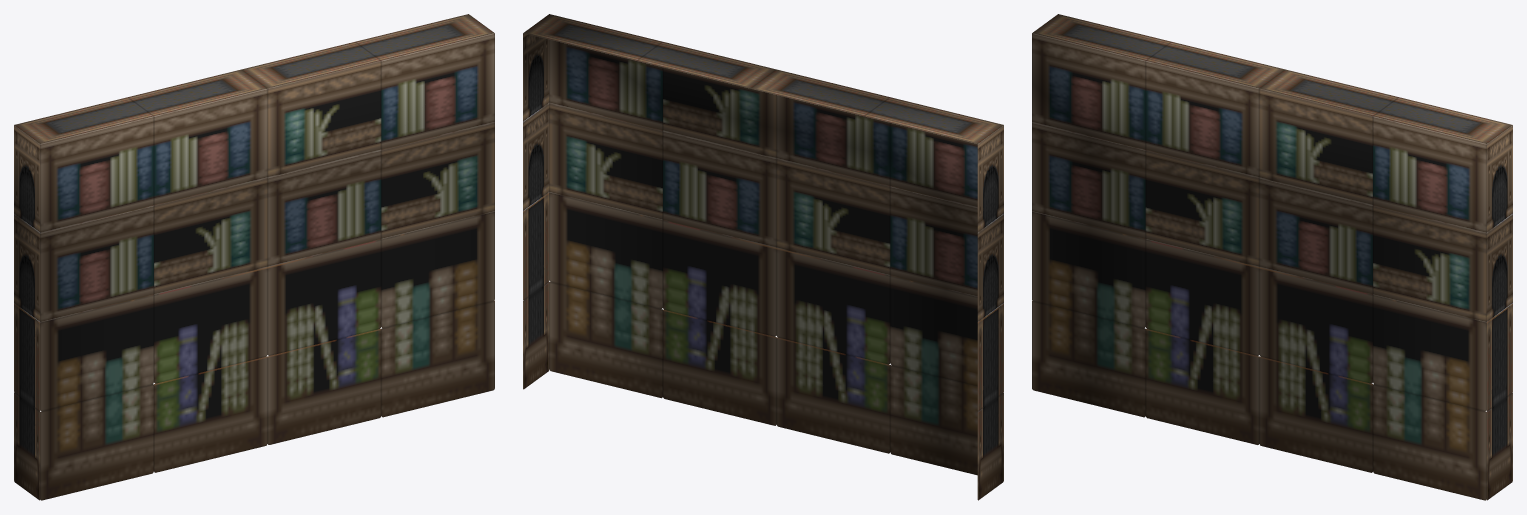
3 views of the same model, side by side, from view 1: azimuth 30°, elevation 25°; view 2: azimuth 150°, elevation 25°; view 3: azimuth 330°, elevation 25° (orthographic).
Visible parts, largest first — view 1: T1L4M005_22; view 2: T1L4M005_22; view 3: T1L4M005_22.
Part boxes in pixels (<box>): T1L4M005_22: <box>14,14,494,500</box>; T1L4M005_22: <box>523,14,1003,500</box>; T1L4M005_22: <box>1032,14,1512,500</box>.
Bounding box in the file's own units: 4 × 3 × 0.3994.
Materials: 1 (1 with a texture image).
